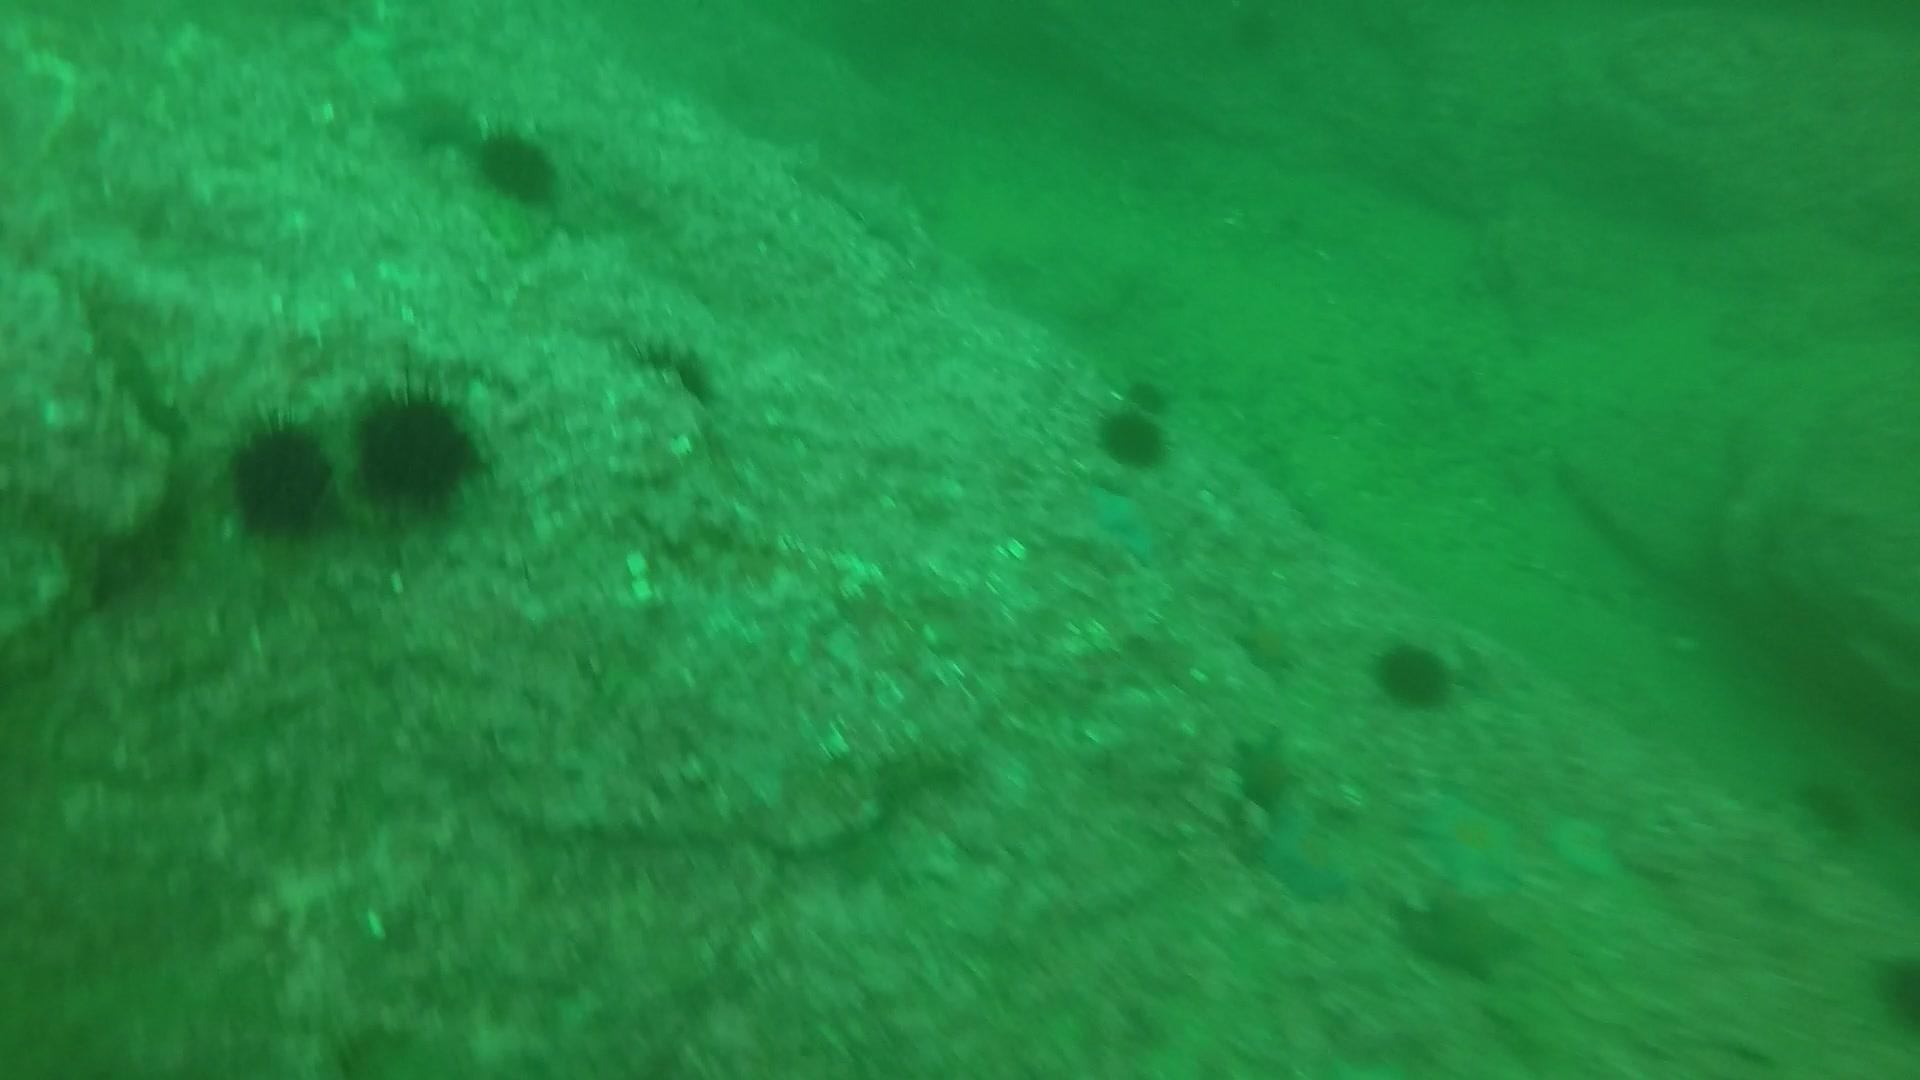echinus: (344, 375, 491, 516), (219, 407, 342, 543), (465, 120, 567, 211), (1366, 632, 1461, 715), (625, 330, 723, 410), (1091, 392, 1176, 473), (1789, 767, 1870, 843), (1867, 945, 1920, 1036), (1120, 371, 1176, 422)
starfish: (1404, 783, 1534, 895), (1398, 880, 1530, 980), (1253, 798, 1364, 907), (1079, 477, 1172, 568), (382, 79, 483, 157), (1226, 727, 1304, 819), (1543, 804, 1627, 885), (1229, 604, 1305, 678)
